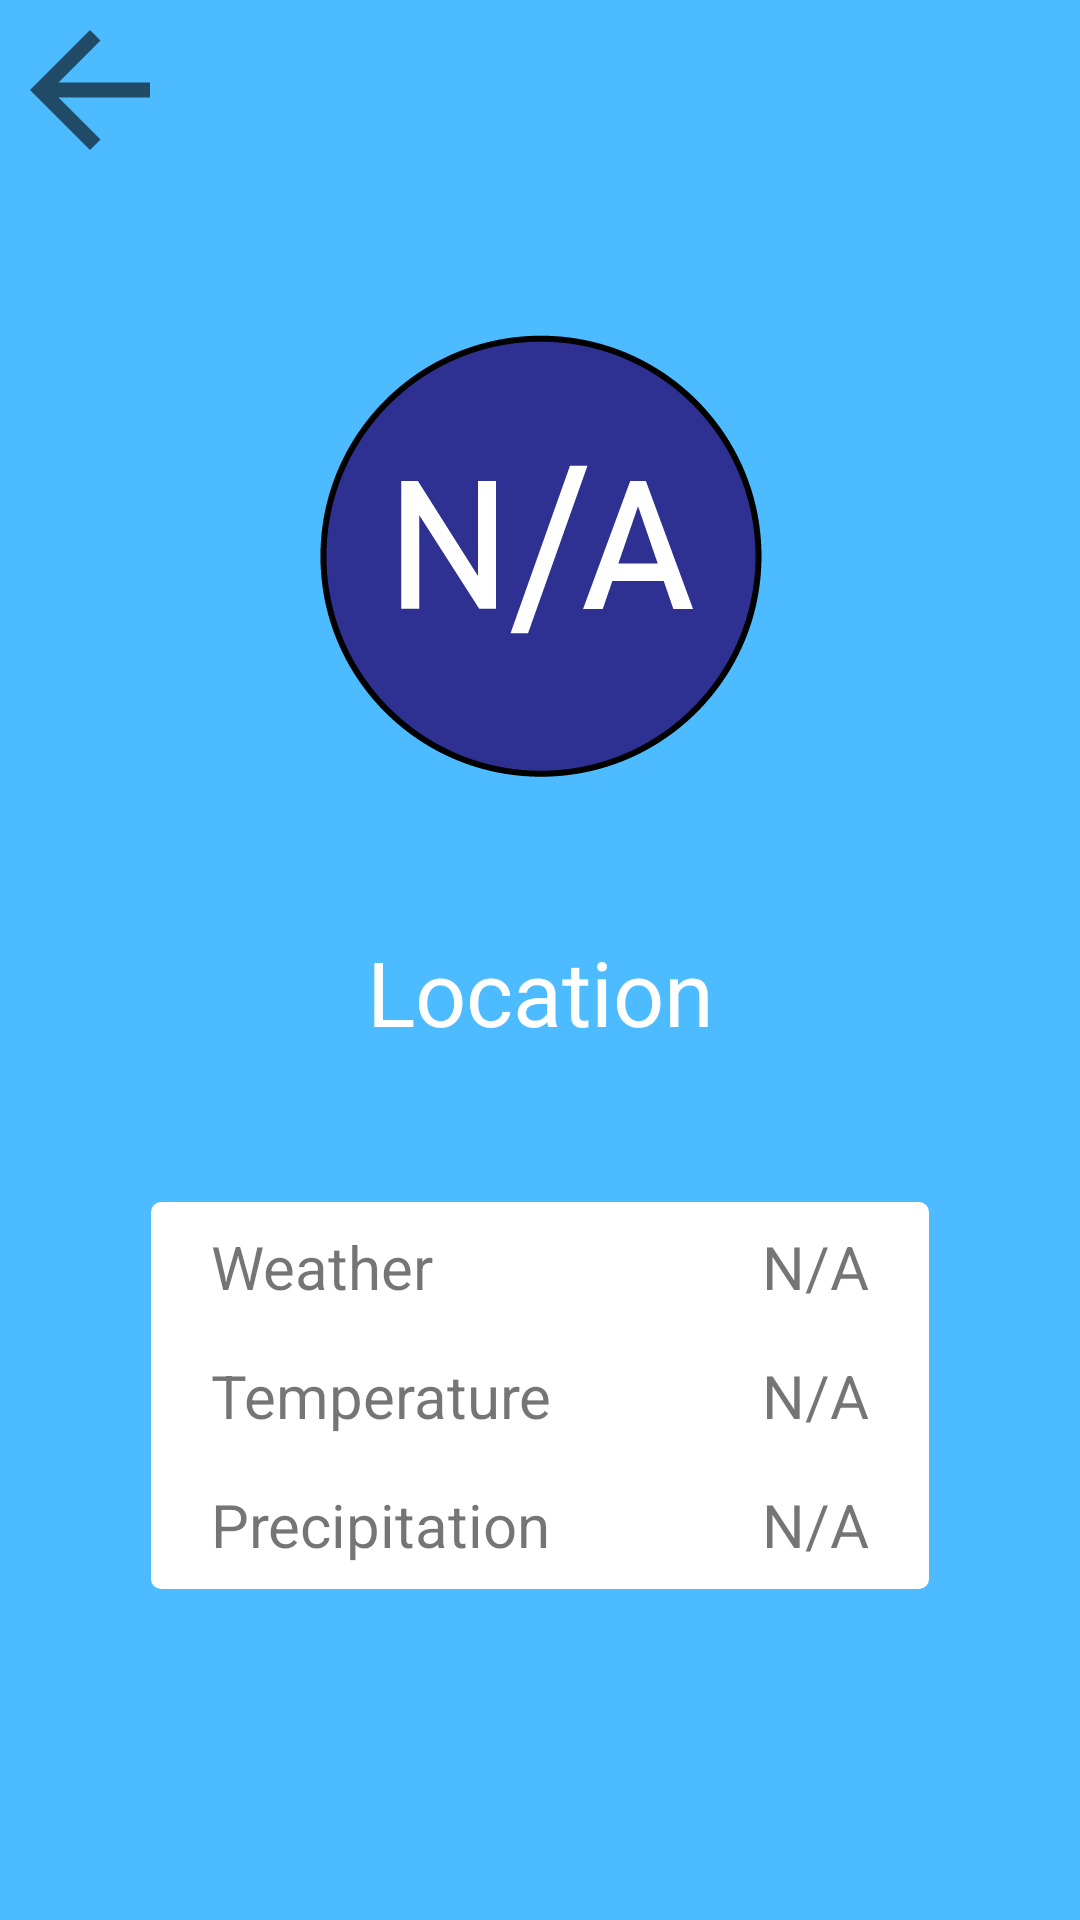

Named icons in this screenshot (1080w x 1920h) and their centers, (x=x, y=y):
Back button - returns to List of Cities: (x=90, y=90)
